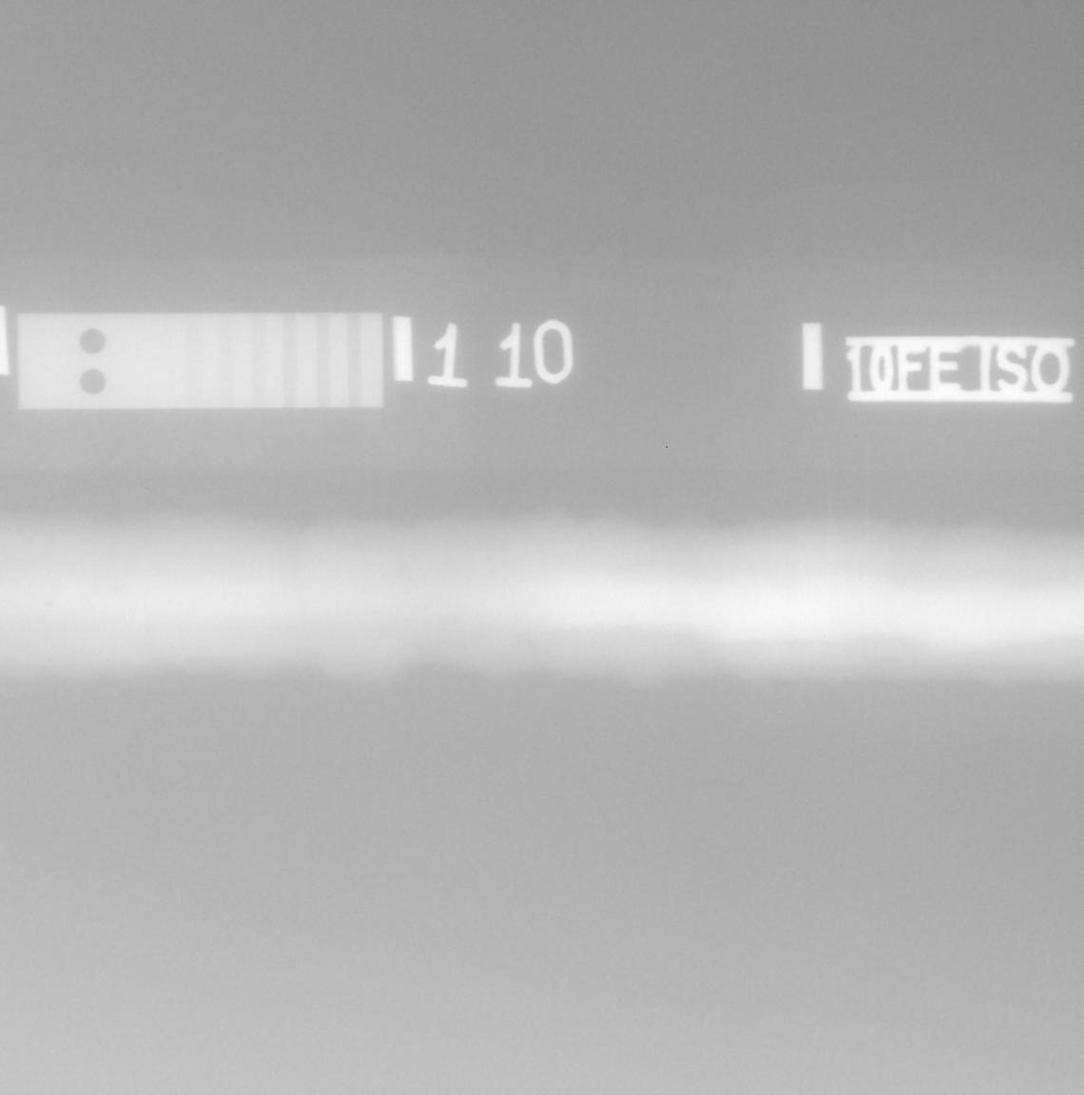Pore/Porosity: (43, 600, 53, 607), (112, 588, 120, 595)
Reference Standard 2: (17, 313, 384, 409)
